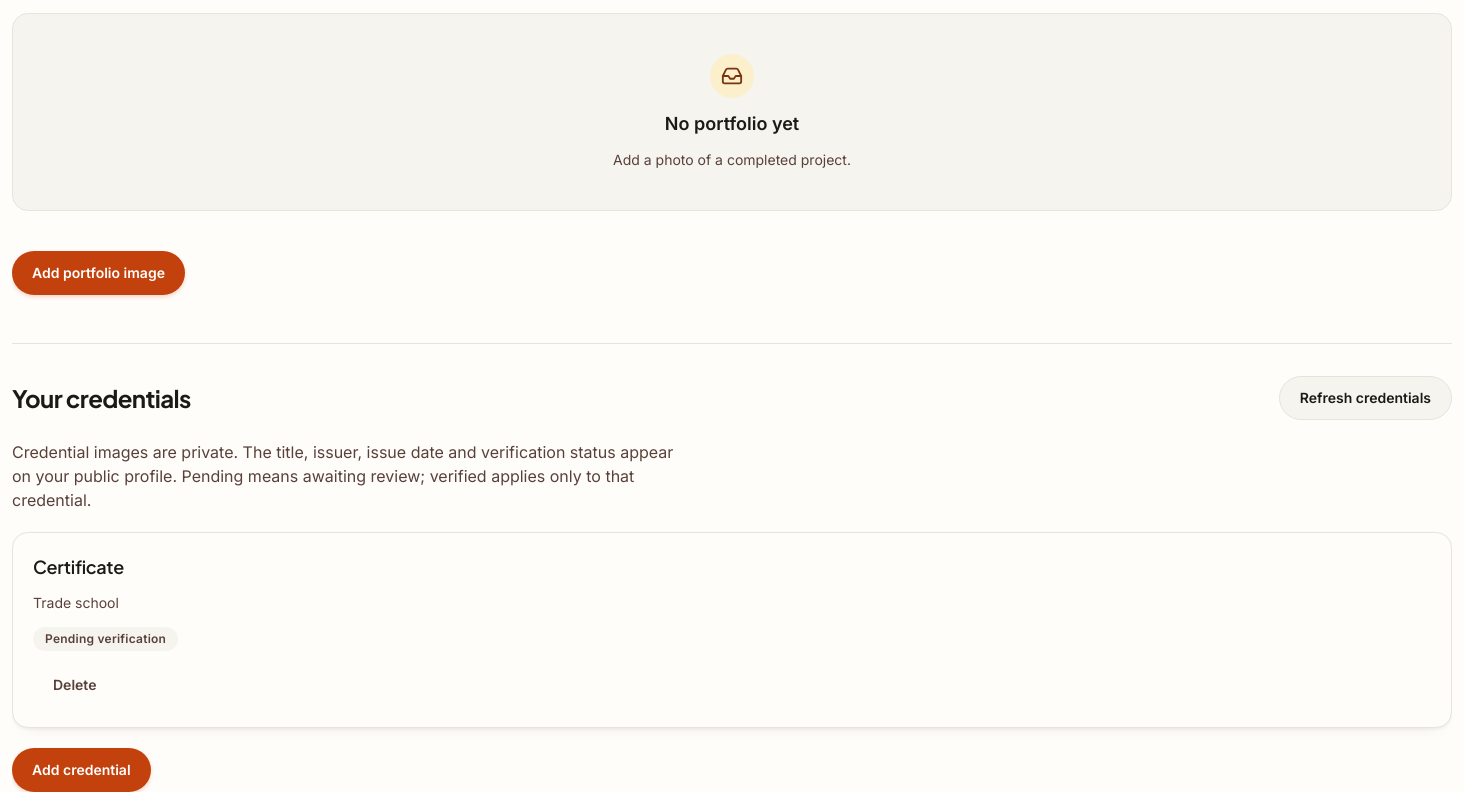
Test: requires deletion confirmation and supports cancellation
The image size is (1464, 792).
(page scrolled)
Click the button with aria-label "Delete Certificate": (75, 685) x1=33 y1=663 x2=116 y2=707
(page scrolled)
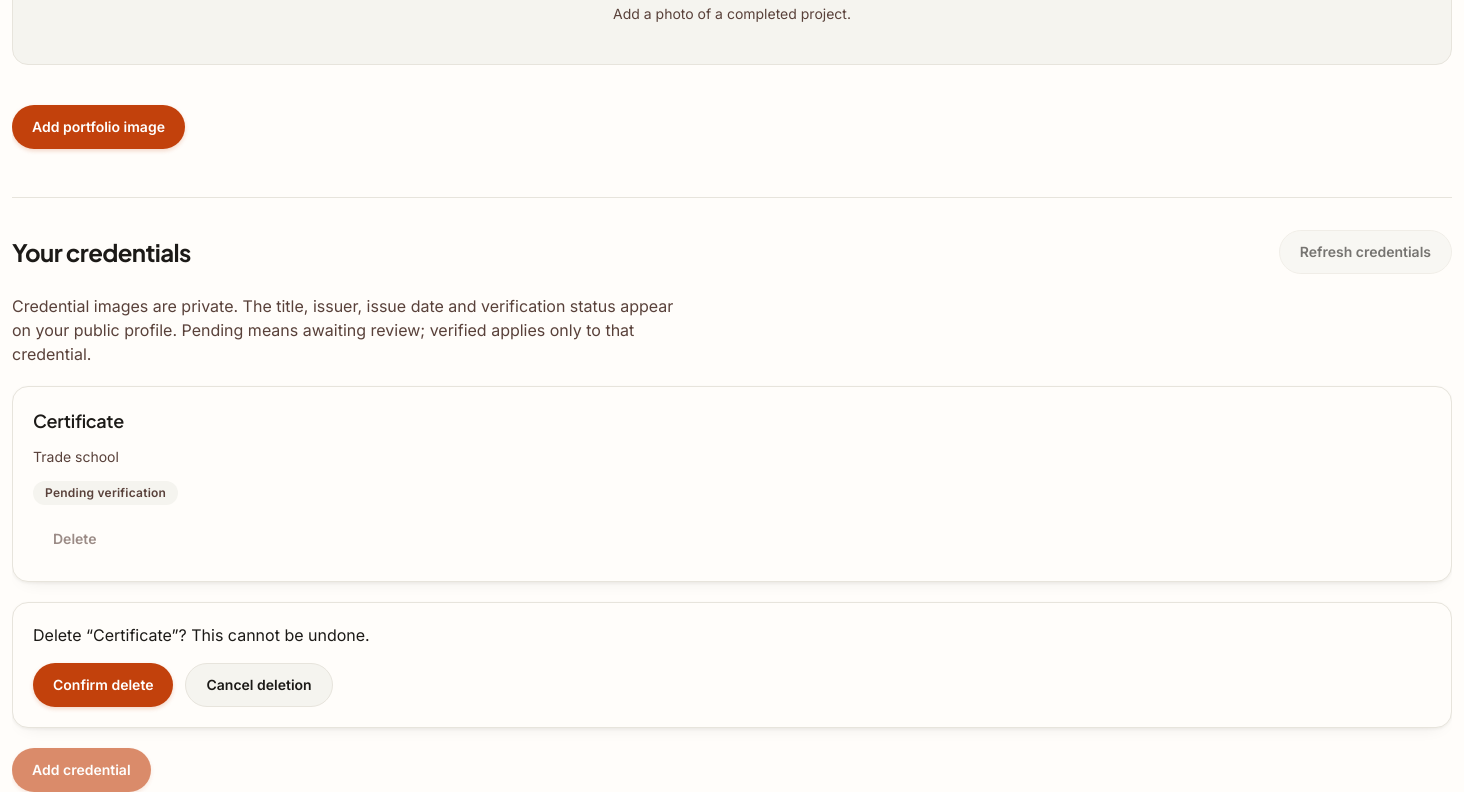
Click the button "Cancel deletion": (259, 685) x1=186 y1=663 x2=333 y2=707
(page scrolled)
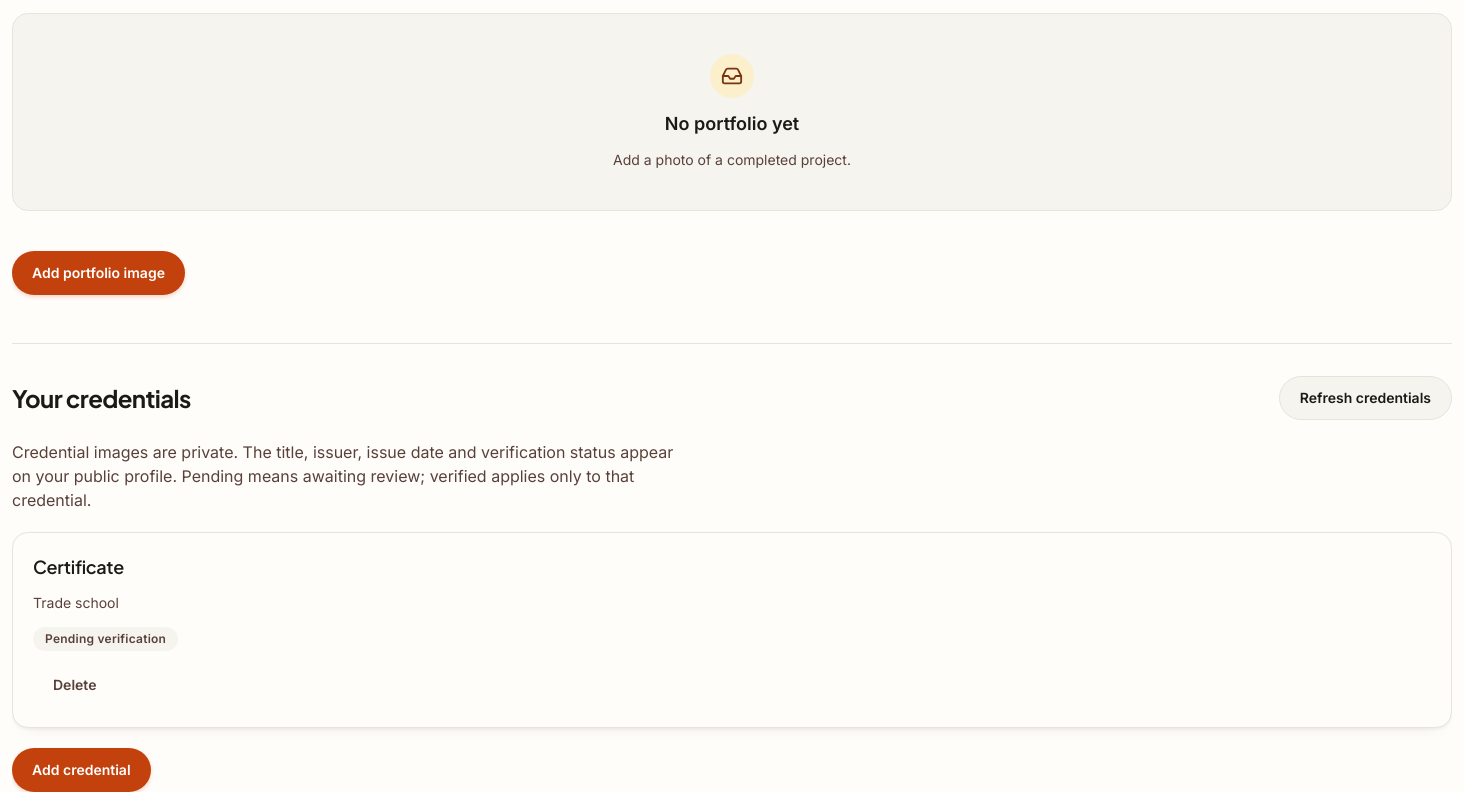
Click the button with aria-label "Delete Certificate": (75, 685) x1=33 y1=663 x2=116 y2=707
(page scrolled)
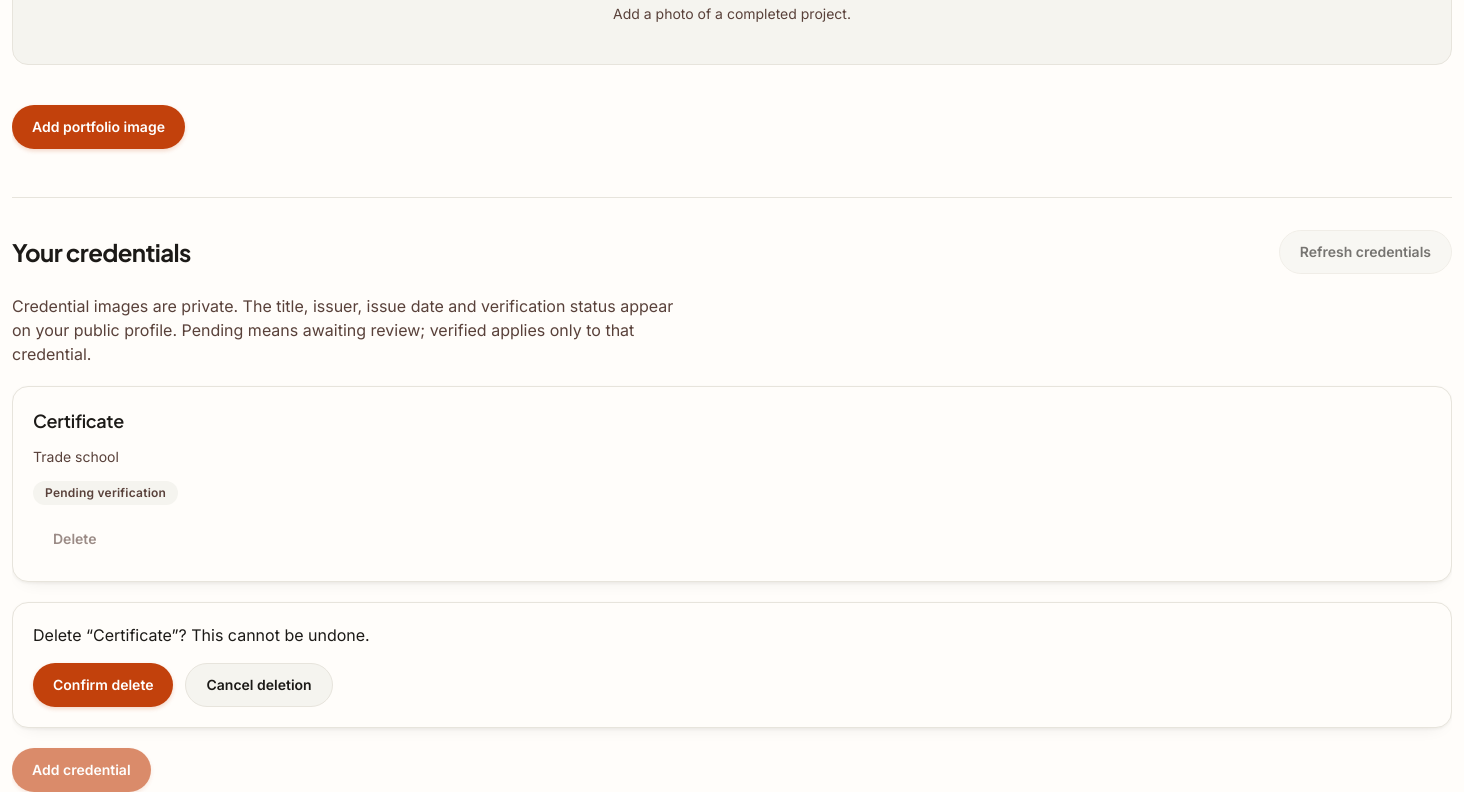
Click the button "Confirm delete": (103, 685) x1=33 y1=663 x2=174 y2=707
(page scrolled)
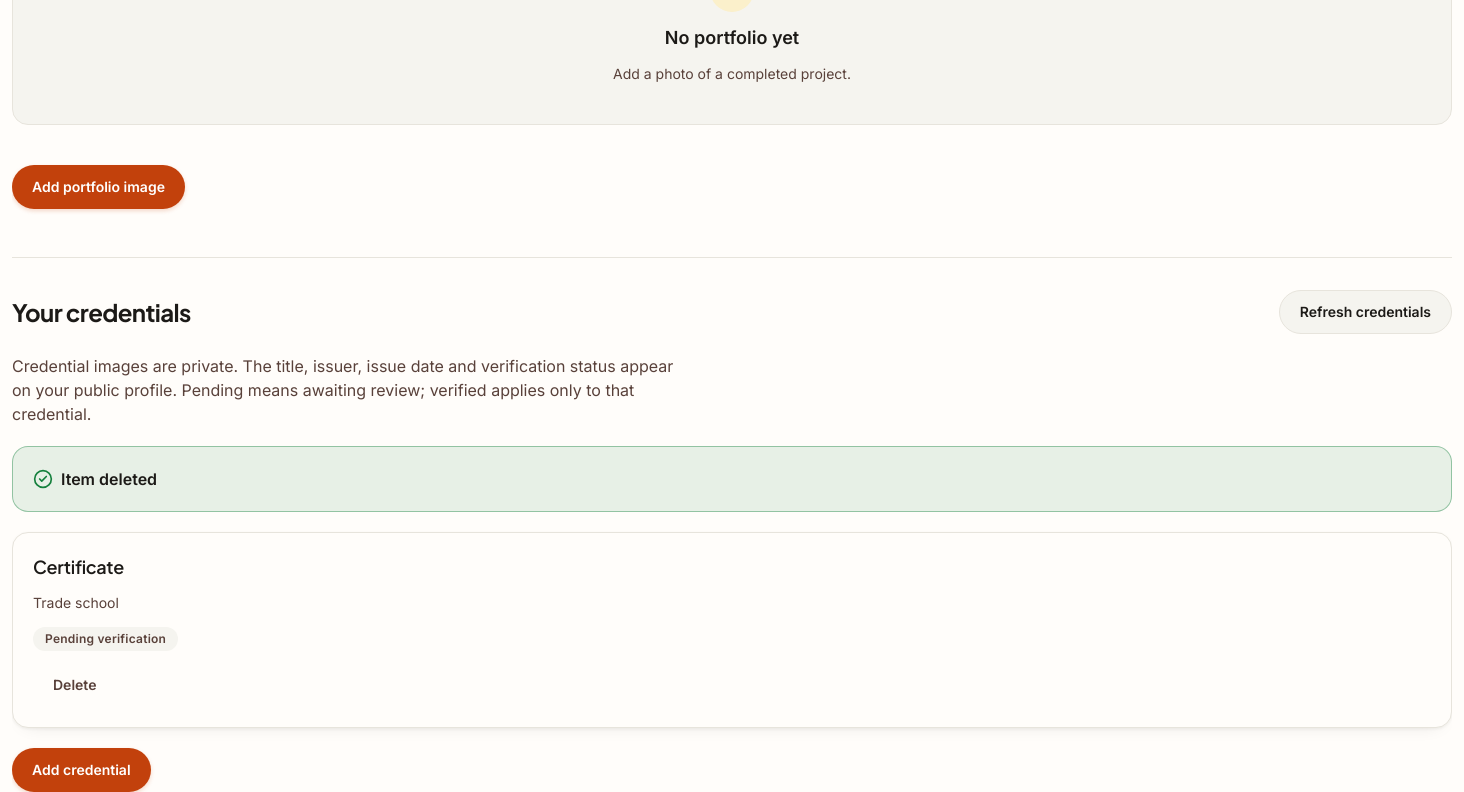
Expected: the text "Item deleted" is shown, x1=33 y1=469 x2=157 y2=489
